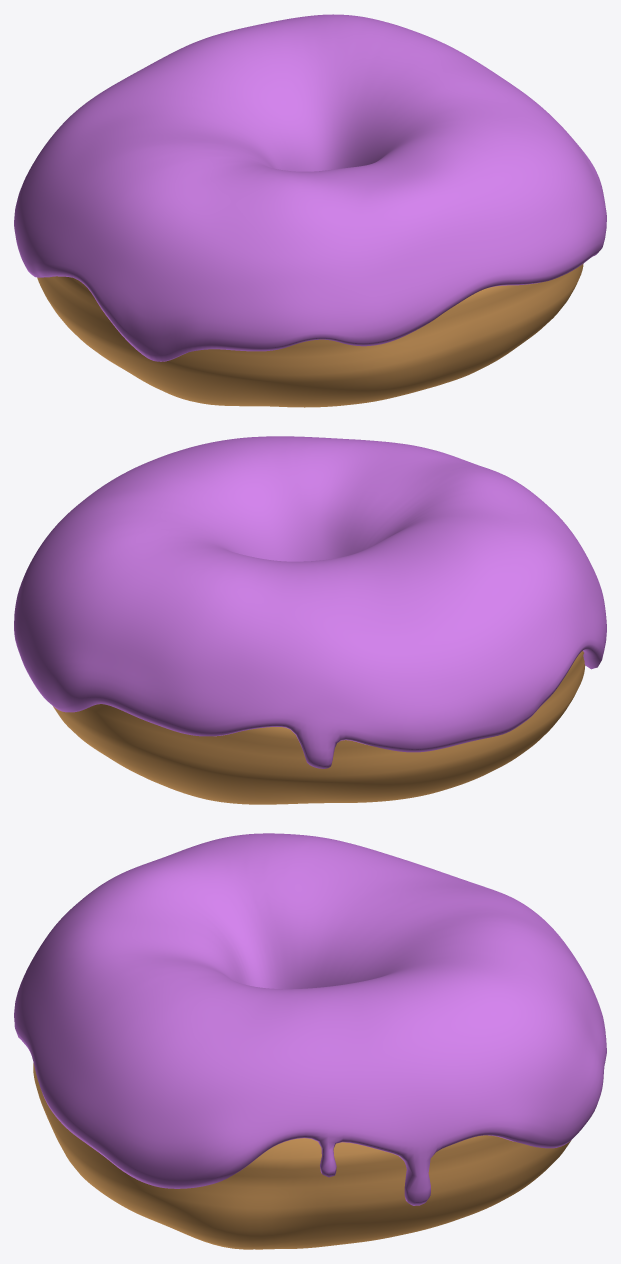
The model's file is donut.gltf.
3 renders of one model, top to bottom at view 1: azimuth 30°, elevation 25°; view 2: azimuth 150°, elevation 25°; view 3: azimuth 270°, elevation 25°, orthographic. The views are drawn at different scales.
Parts seen in each view (by area): view 1: Icing, Donut; view 2: Icing, Donut; view 3: Icing, Donut.
Part boxes in pixels (<box>): Icing: <box>14,14,606,361</box>; Donut: <box>37,263,583,407</box>; Icing: <box>14,436,606,768</box>; Donut: <box>53,651,585,804</box>; Icing: <box>14,833,606,1205</box>; Donut: <box>33,1063,571,1249</box>.
Size of what is drawn, in the model's own units: 0.1058 by 0.0466 by 0.1005.
